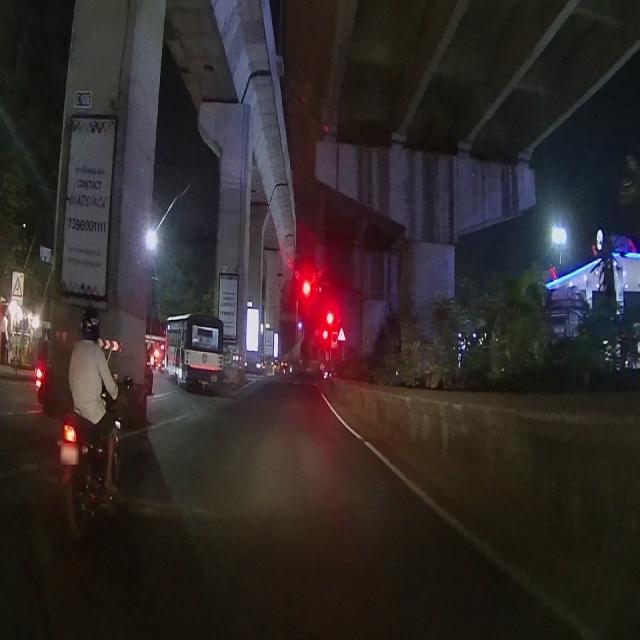side-road-left: (14, 268, 25, 301)
